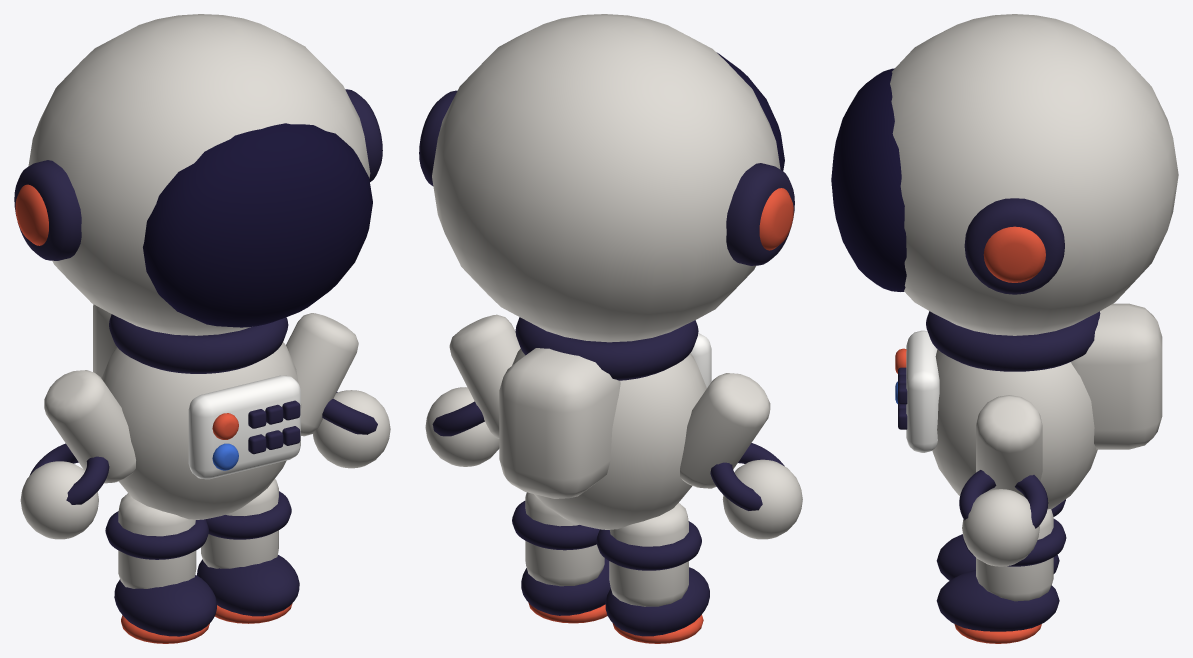
The model's file is astronaut.glb.
3 views of the same model, side by side, from view 1: azimuth 30°, elevation 25°; view 2: azimuth 150°, elevation 25°; view 3: azimuth 270°, elevation 25° (orthographic). The views are drawn at different scales.
Visible parts, largest first — view 1: Sphere, Sphere.001, Sphere.002, Cube.001, Torus, Cylinder.006, Cylinder.009, Sphere.004, Sphere.006, Sphere.003, Cylinder.007, Cylinder (+13 smaller); view 2: Sphere, Cube, Sphere.002, Cylinder.006, Torus, Cylinder.007, Cylinder.009, Sphere.003, Cylinder, Cylinder.010, Sphere.004, Sphere.005 (+11 smaller); view 3: Sphere, Sphere.002, Sphere.001, Cube, Torus, Cylinder.009, Cylinder.002, Sphere.005, Sphere.006, Cube.001, Cylinder.010, Cylinder.003 (+4 smaller).
Part boxes in pixels (x1,y1,x2,y2): Sphere: (28,14,370,335); Sphere.001: (143,123,372,327); Sphere.002: (101,342,301,519); Cube.001: (188,375,300,479); Torus: (109,314,288,373); Cylinder.006: (44,370,135,483); Cylinder.009: (286,313,358,436); Sphere.004: (114,575,216,636); Sphere.006: (197,555,299,616); Sphere.003: (20,461,98,539); Cylinder.007: (118,493,196,588); Cylinder: (14,160,81,260); Sphere: (432,14,780,342); Cube: (499,348,620,498); Sphere.002: (512,348,706,529); Cylinder.006: (680,373,770,488); Torus: (515,317,698,380); Cylinder.007: (609,503,688,606); Cylinder.009: (449,314,520,438); Sphere.003: (722,459,802,539); Cylinder: (726,163,794,265); Cylinder.010: (525,492,604,586); Sphere.004: (605,567,709,636); Sphere.005: (425,387,499,466); Sphere: (890,14,1178,335); Sphere.002: (932,349,1097,509); Sphere.001: (831,68,906,291); Cube: (1071,303,1162,449); Torus: (926,311,1100,371); Cylinder.009: (976,395,1042,496); Cylinder.002: (964,198,1064,294); Sphere.005: (962,489,1039,566); Sphere.006: (936,570,1059,631); Cube.001: (906,330,939,452); Cylinder.010: (976,509,1053,601); Cylinder.003: (983,226,1045,282).
Bounding box in the file's own units: 1.48 × 2.29 × 1.25.
